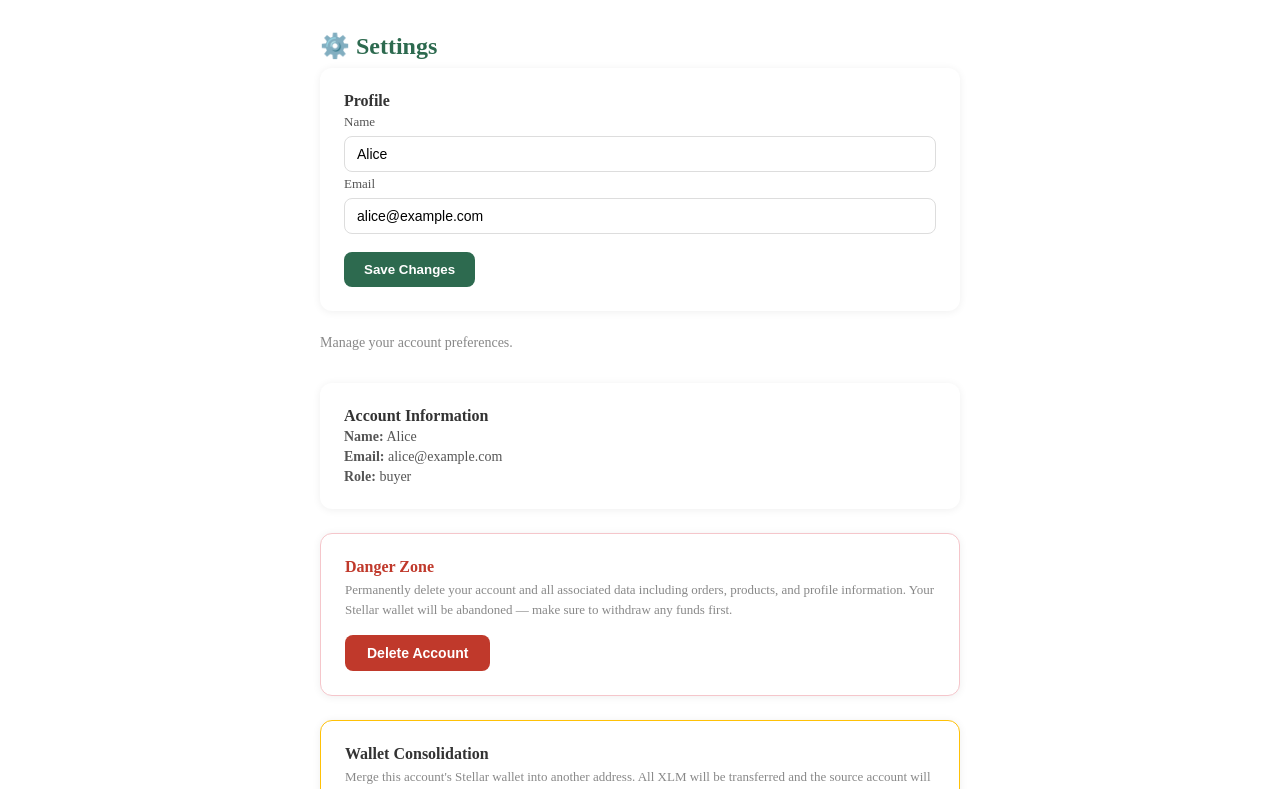
Scenario: #454 Settings – save confirmation toast › shows success toast after successful save
Step 1. Click the button "Save Changes" → (410, 270), box [344,252,475,287]
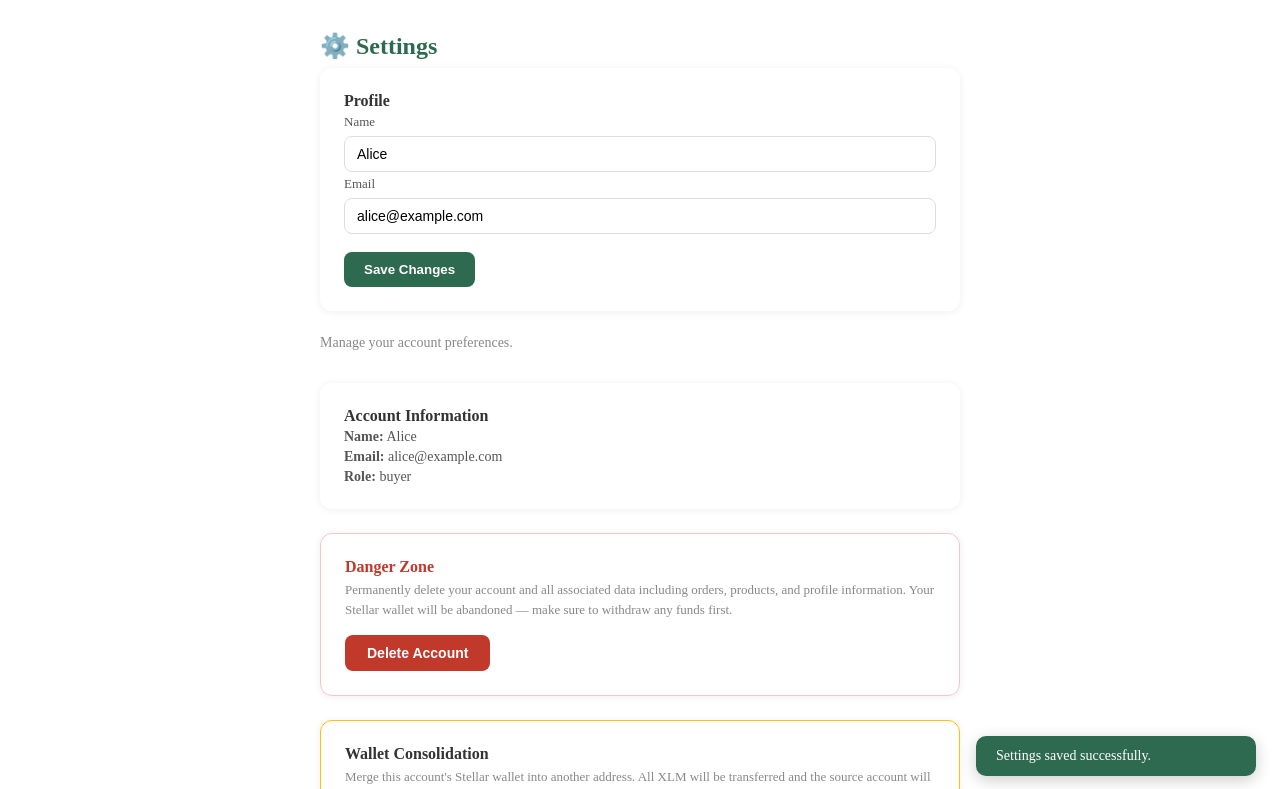
Check: the text "Settings saved successfully." is shown, box [976,736,1256,776]
